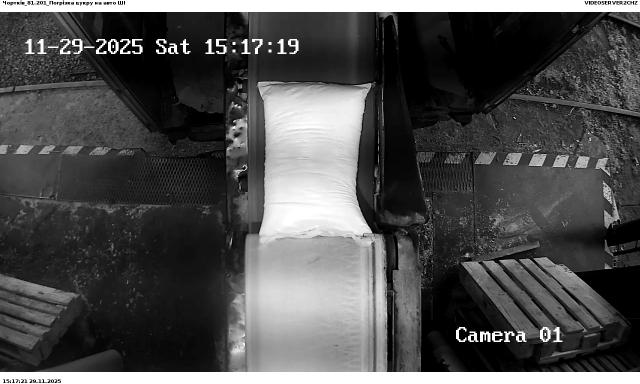bag: (259, 81, 375, 250)
